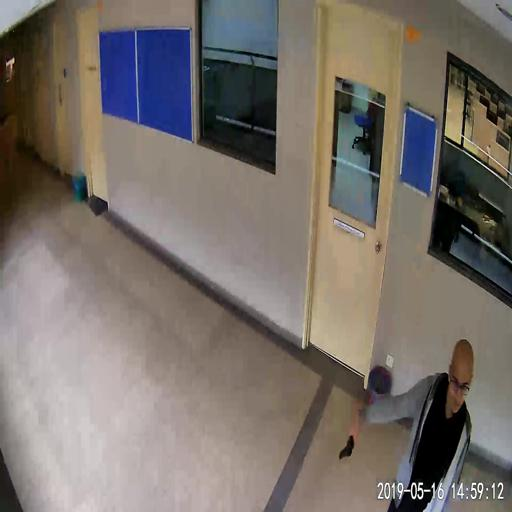pistol: (338, 430, 355, 459)
